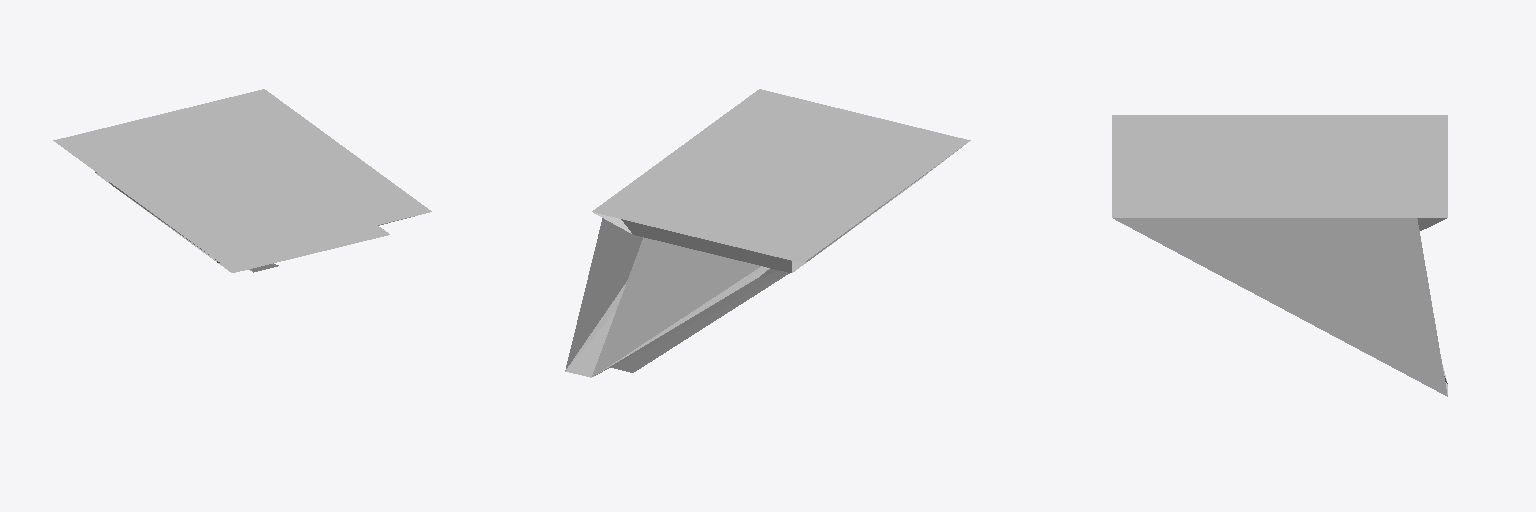
The model's file is Conference Chair.obj.
3 views of the same model, side by side, from view 1: azimuth 30°, elevation 25°; view 2: azimuth 150°, elevation 25°; view 3: azimuth 270°, elevation 25° (orthographic).
Size of the model in its own units: 9 by 6 by 11.